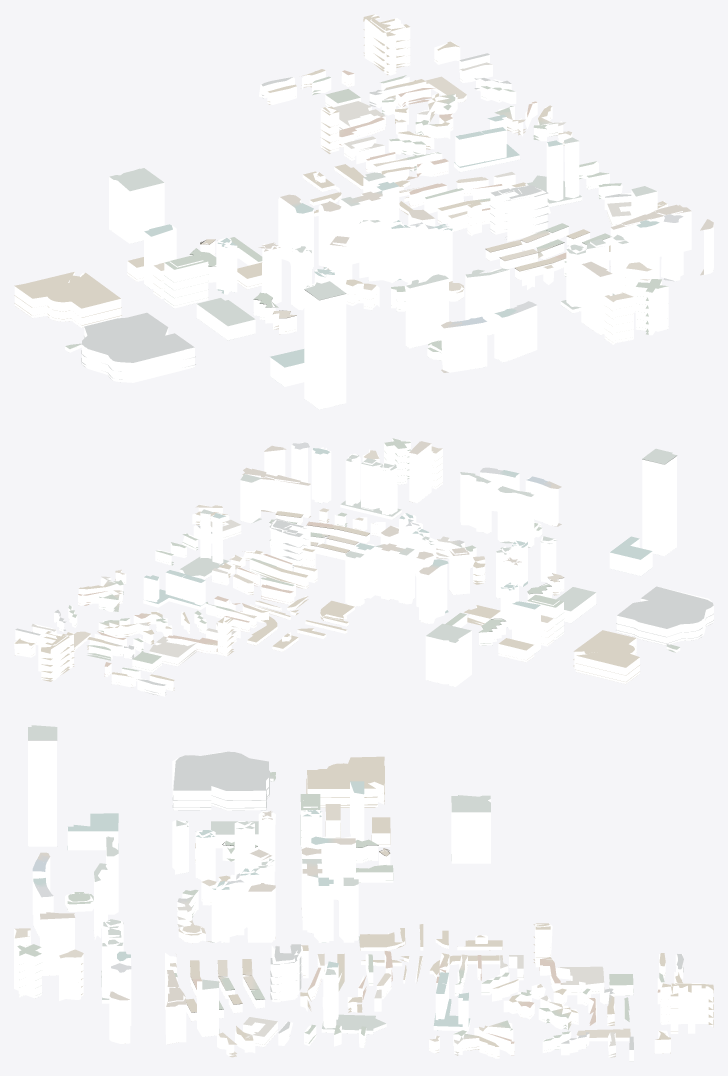
File: buildings-3_1-coarse.glb
3 renders of one model, top to bottom at view 1: azimuth 30°, elevation 25°; view 2: azimuth 150°, elevation 25°; view 3: azimuth 270°, elevation 25°, orthographic. The views are drawn at different scales.
Parts seen in each view (by area): view 1: block_3_1_office, block_3_1_residential, block_3_1_roof; view 2: block_3_1_office, block_3_1_residential, block_3_1_roof; view 3: block_3_1_office, block_3_1_roof, block_3_1_residential.
Boxes of the visible parts, box(x1,y1,x2,y2) form: block_3_1_office: box(109, 117, 713, 409); block_3_1_residential: box(14, 14, 668, 382); block_3_1_roof: box(14, 14, 713, 384); block_3_1_office: box(143, 442, 676, 686); block_3_1_residential: box(14, 439, 713, 696); block_3_1_roof: box(14, 438, 713, 695); block_3_1_office: box(28, 740, 490, 1044); block_3_1_roof: box(14, 725, 713, 1061); block_3_1_residential: box(14, 752, 713, 1061).
Size of the model in its own units: 659 by 119 by 670.
